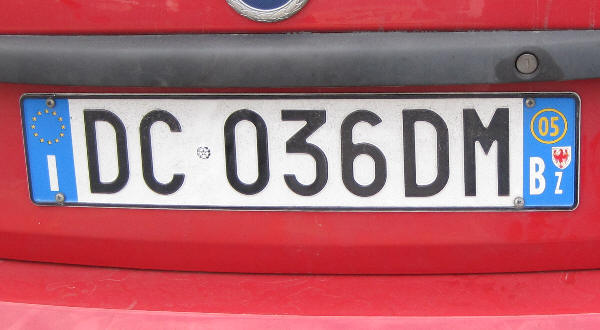license_plate: (19, 93, 582, 210)
